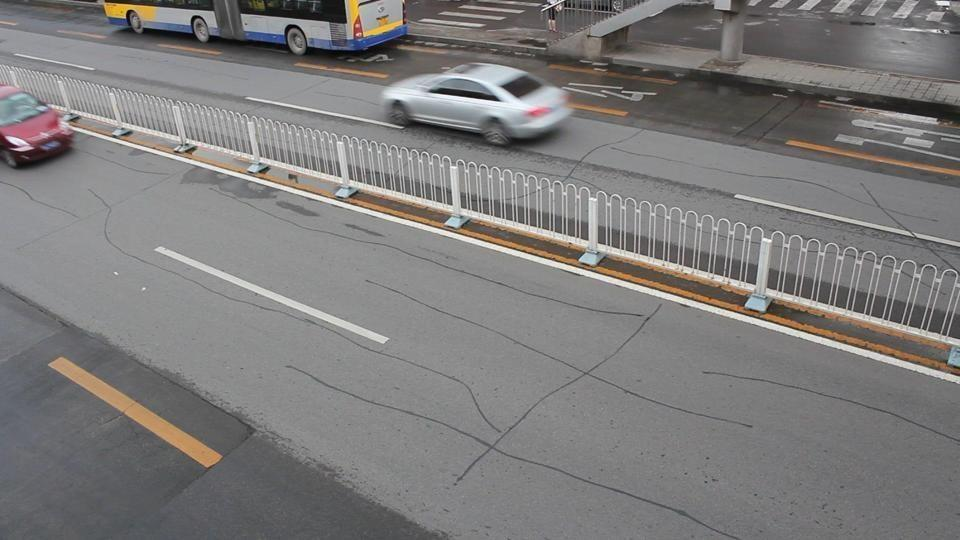car: (379, 61, 574, 146), (0, 84, 75, 168)
